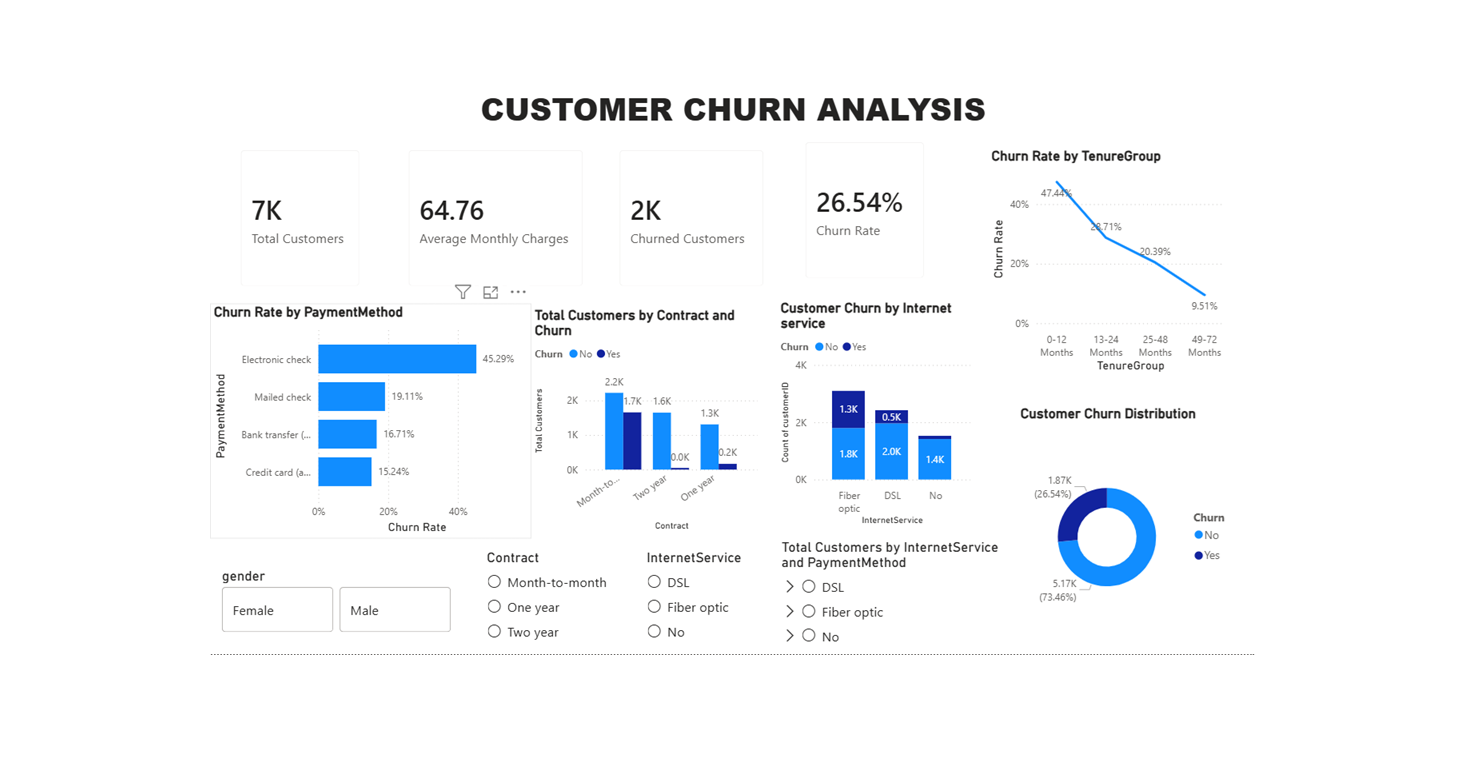

Layout of this report page (visuals, bound fields, positions):
{"tool":"powerbi","page":{"name":"Page 1","canvas":[1280,720],"ordinal":0},"visuals":[{"type":"cardVisual","fields":{"Data":["cleaned_customer_churn.Total Customers"]},"box":[20.7,87.4,179.3,200],"z":0},{"type":"cardVisual","fields":{"Data":["cleaned_customer_churn.Churned Customers"]},"box":[484.6,87.4,210.4,200],"z":1},{"type":"cardVisual","fields":{"Data":["cleaned_customer_churn.Churn Rate"]},"box":[711.3,77.1,179.3,200],"z":2},{"type":"cardVisual","fields":{"Data":["cleaned_customer_churn.Average Monthly Charges"]},"box":[226.7,87.4,247.5,200],"z":3},{"type":"donutChart","title":"Customer Churn Distribution","fields":{"Category":["cleaned_customer_churn.Churn"],"Y":["CountNonNull(cleaned_customer_churn.customerID)"]},"box":[987,415.9,279.6,303.4],"z":5},{"type":"clusteredColumnChart","fields":{"Category":["cleaned_customer_churn.Contract"],"Y":["cleaned_customer_churn.Total Customers"],"Series":["cleaned_customer_churn.Churn"]},"box":[392.1,294.9,283,279.6],"z":6},{"type":"lineChart","fields":{"Category":["cleaned_customer_churn.TenureGroup"],"Y":["cleaned_customer_churn.Churn Rate"]},"box":[951.3,100.8,297.8,280.1],"z":7},{"type":"barChart","fields":{"Category":["cleaned_customer_churn.PaymentMethod"],"Y":["cleaned_customer_churn.Churn Rate"]},"box":[0,291.5,392.1,286.4],"z":8},{"type":"listSlicer","fields":{"Values":["cleaned_customer_churn.InternetService","cleaned_customer_churn.PaymentMethod"]},"box":[694.6,578.4,292.3,141.8],"z":9},{"type":"textbox","box":[0,22.2,1280.3,65.2],"z":11},{"type":"advancedSlicerVisual","fields":{"Values":["cleaned_customer_churn.gender"]},"box":[10.4,613.5,290.4,84.5],"z":12},{"type":"listSlicer","fields":{"Values":["cleaned_customer_churn.Contract"]},"box":[333.4,591.3,166,128.9],"z":13},{"type":"listSlicer","fields":{"Values":["cleaned_customer_churn.InternetService"]},"box":[529,591.3,146.7,128.9],"z":14},{"type":"columnChart","title":"Customer Churn by Internet service","fields":{"Category":["cleaned_customer_churn.InternetService"],"Series":["cleaned_customer_churn.Churn"],"Y":["CountNonNull(cleaned_customer_churn.customerID)"]},"box":[693.8,286.4,242.1,281.3],"z":15}]}

Visuals, with their boxes in screenshot pixels (x1, y1, x2, y2):
cardVisual - cleaned_customer_churn.Total Customers: [140, 97, 331, 310]
cardVisual - cleaned_customer_churn.Churned Customers: [634, 97, 859, 310]
cardVisual - cleaned_customer_churn.Churn Rate: [876, 86, 1067, 299]
cardVisual - cleaned_customer_churn.Average Monthly Charges: [359, 97, 623, 310]
"Customer Churn Distribution" donutChart: [1170, 447, 1457, 771]
clusteredColumnChart - cleaned_customer_churn.Contract x cleaned_customer_churn.Total Customers: [536, 318, 837, 616]
lineChart - cleaned_customer_churn.TenureGroup x cleaned_customer_churn.Churn Rate: [1132, 111, 1449, 410]
barChart - cleaned_customer_churn.PaymentMethod x cleaned_customer_churn.Churn Rate: [118, 315, 536, 620]
listSlicer - cleaned_customer_churn.InternetService x cleaned_customer_churn.PaymentMethod: [858, 620, 1170, 772]
textbox: [118, 27, 1457, 97]
advancedSlicerVisual - cleaned_customer_churn.gender: [129, 658, 438, 748]
listSlicer - cleaned_customer_churn.Contract: [473, 634, 650, 772]
listSlicer - cleaned_customer_churn.InternetService: [682, 634, 838, 772]
"Customer Churn by Internet service" columnChart: [857, 309, 1115, 609]
